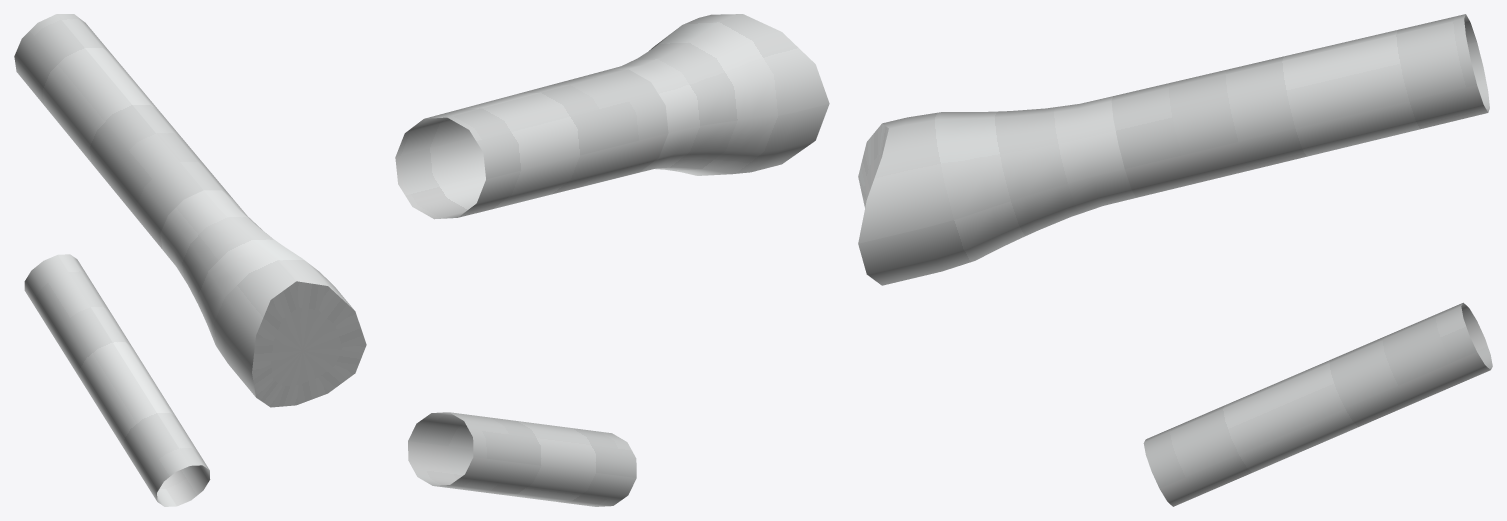
Rendered from luminairearm_truss15ftstraightdouble_c0_thin.obj.
The picture shows the model from 3 angles, left to right: view 1: azimuth 30°, elevation 25°; view 2: azimuth 150°, elevation 25°; view 3: azimuth 270°, elevation 25°; orthographic projection. The views are drawn at different scales.
Parts seen in each view (by area): view 1: luminairearm_truss15ftstraightdouble_c0_thin; view 2: luminairearm_truss15ftstraightdouble_c0_thin; view 3: luminairearm_truss15ftstraightdouble_c0_thin.
Part boxes in pixels (x1,y1,x2,y2): luminairearm_truss15ftstraightdouble_c0_thin: (14,14,366,506); luminairearm_truss15ftstraightdouble_c0_thin: (395,14,829,506); luminairearm_truss15ftstraightdouble_c0_thin: (858,14,1492,506).
Size of the model in its own units: 0.3375 by 1.14 by 1.35.
